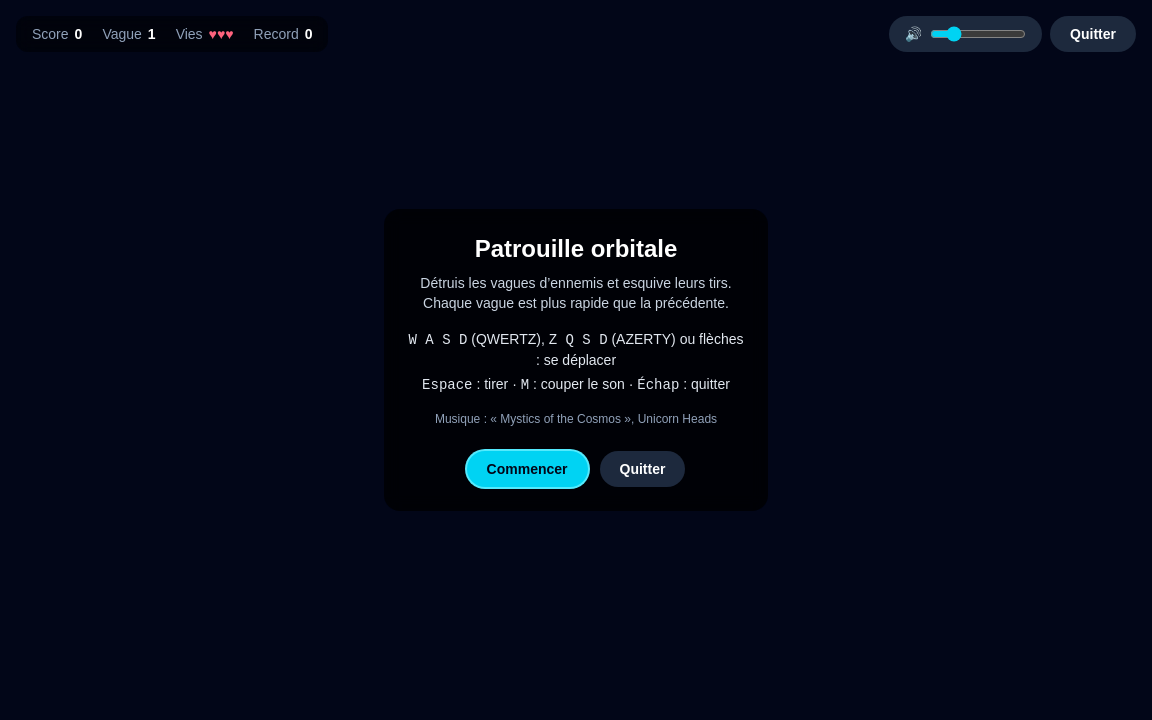
Test case: GameOverlay › affiche le score, puis garde le record en fin de partie
Click the button "Commencer" at (527, 469), box [467,451,588,487]
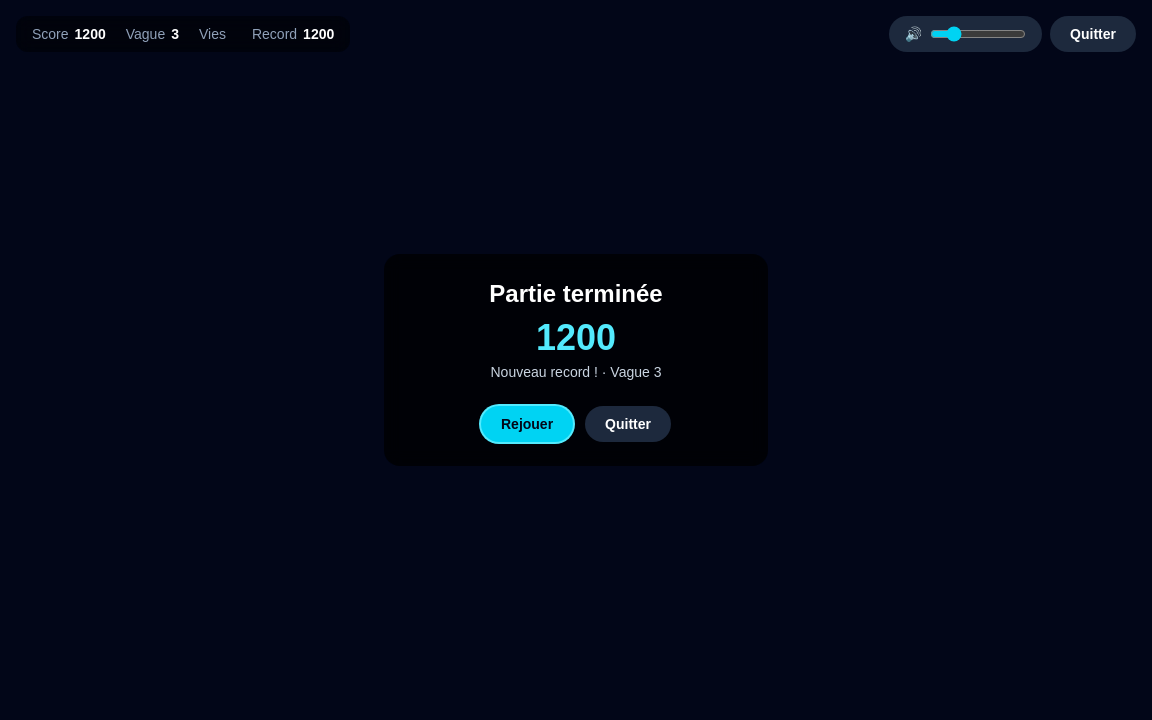
Expected: the heading "Partie terminée" is shown, [489,280,663,307]
Expected: the text "Nouveau record !" is shown, [490,364,598,380]
